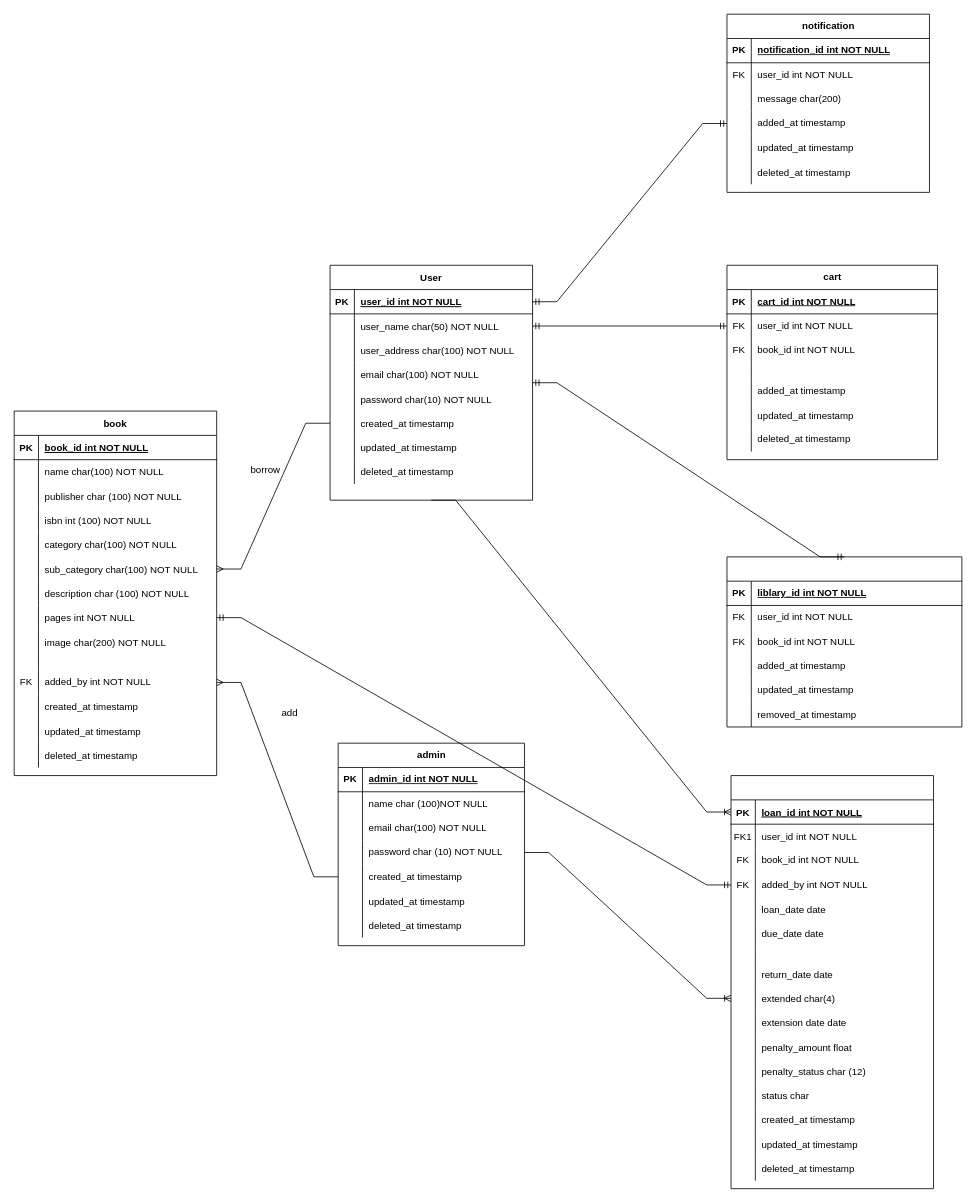
The diagram is 976 pixels wide and 1203 high, and some of its shapes have lost their labels. The shapes that lost their labels are listed below. From the top down, each one's box as (x1, y1, x2, y2) in pixels, then its label:
(726, 556, 962, 727): library
(730, 775, 934, 1189): book_loan
